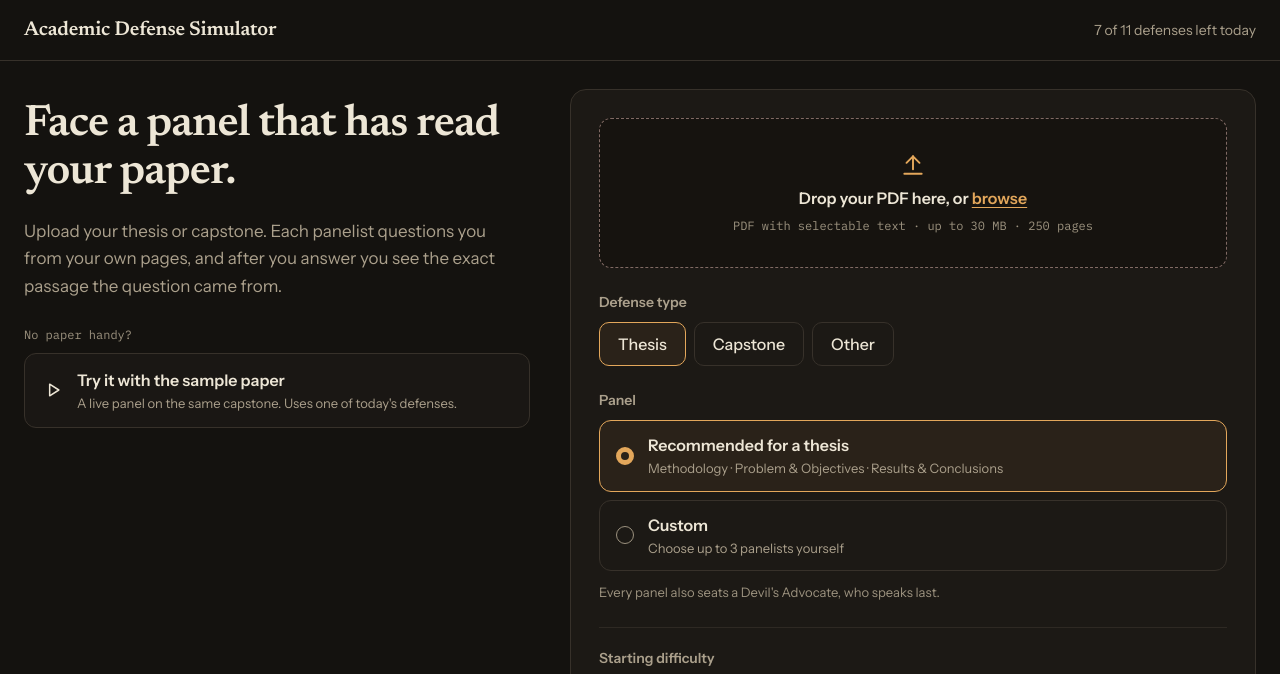
Test: Try it with the sample paper (N5) › uploads the bundled capstone as a capstone defense on its Recommended preset
Expected: the text "7 of 11 defenses left today" is shown, top-left (1094, 20), bottom-right (1256, 40)
What coordinates should you click on to do the following:
click the button "Try it with the sample paper"
I would click on:
 (277, 390)
Its box is top-left (24, 353), bottom-right (530, 428).
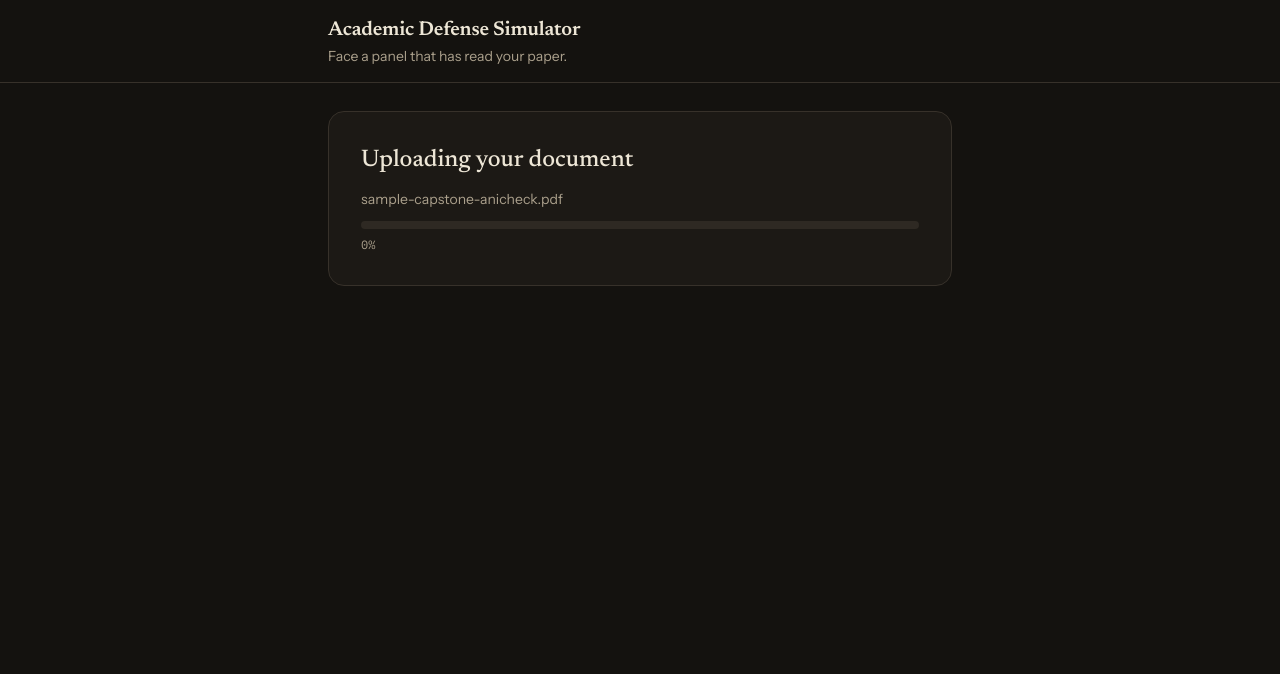
Result: the text "sample-capstone-anicheck.pdf" is shown at top-left (361, 190), bottom-right (563, 208)
